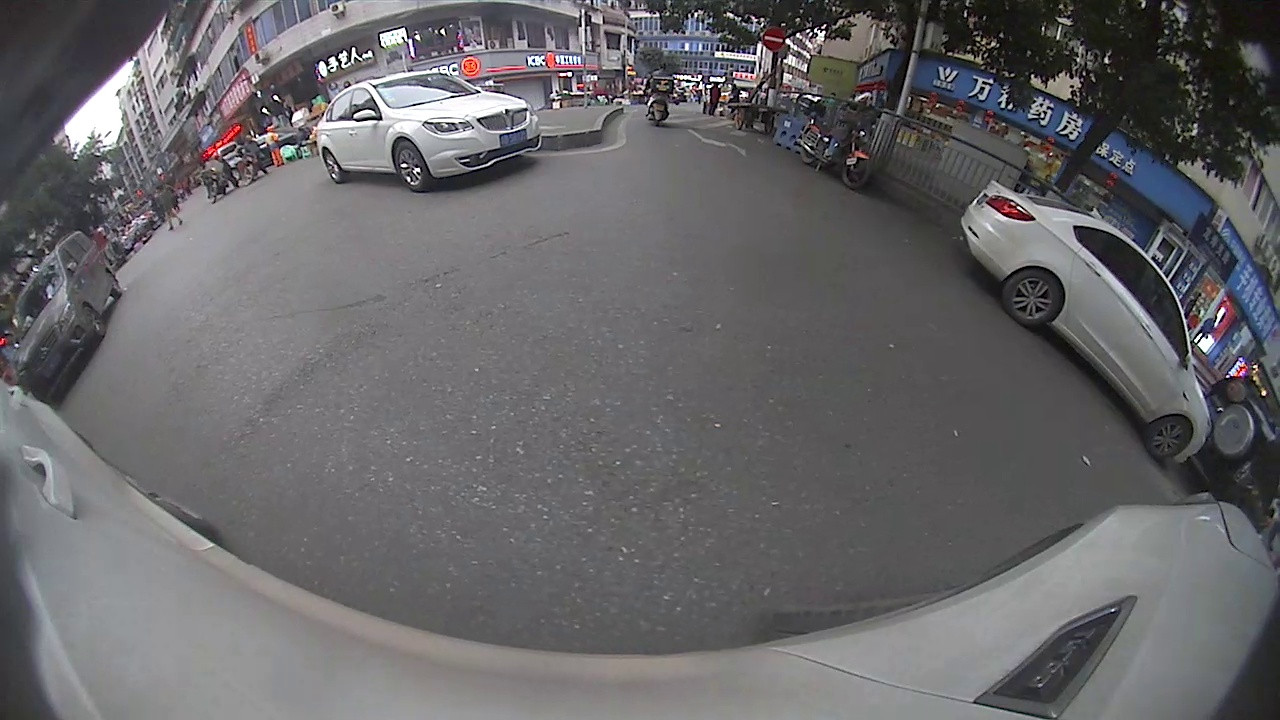car: (943, 151, 1215, 469), (313, 69, 544, 194), (13, 231, 123, 400)
front: (1143, 419, 1195, 462), (390, 139, 427, 191), (841, 148, 872, 189), (84, 301, 108, 340)
rear: (1004, 269, 1061, 326), (320, 147, 341, 185), (103, 270, 124, 297), (800, 142, 818, 165)
rider: (792, 88, 878, 190), (642, 60, 673, 126)
